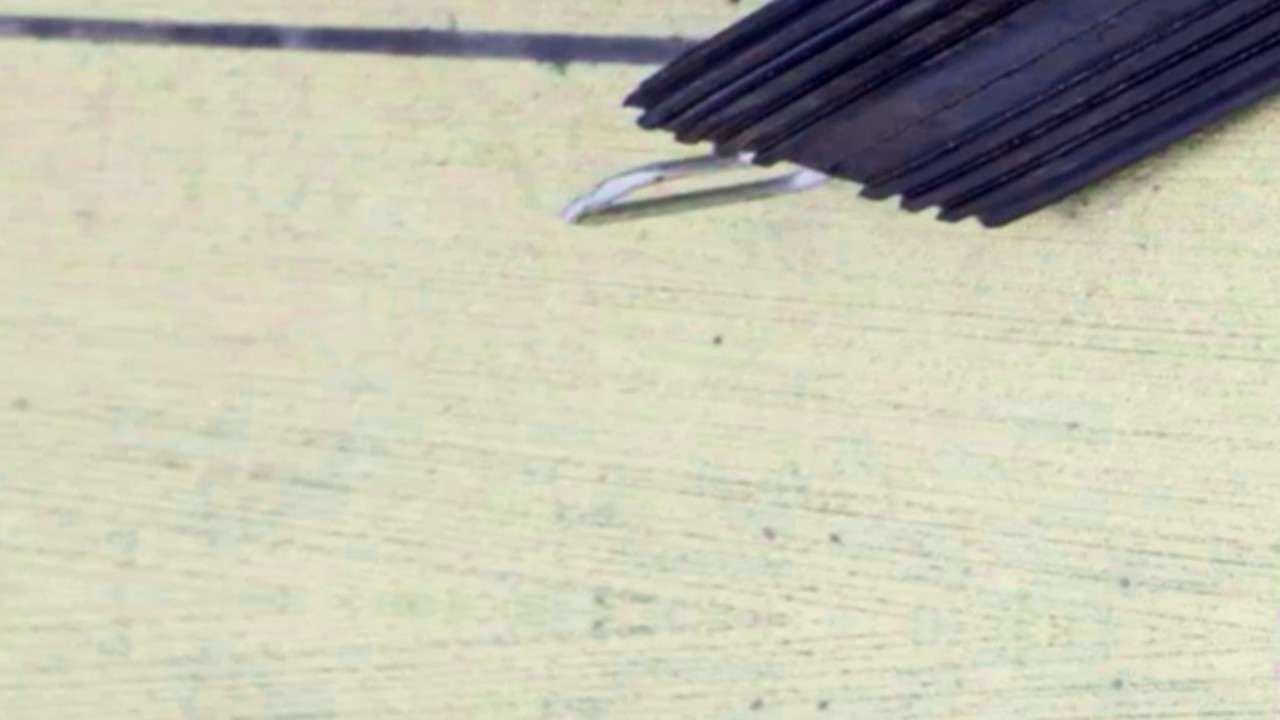chock: (609, 0, 1280, 260)
